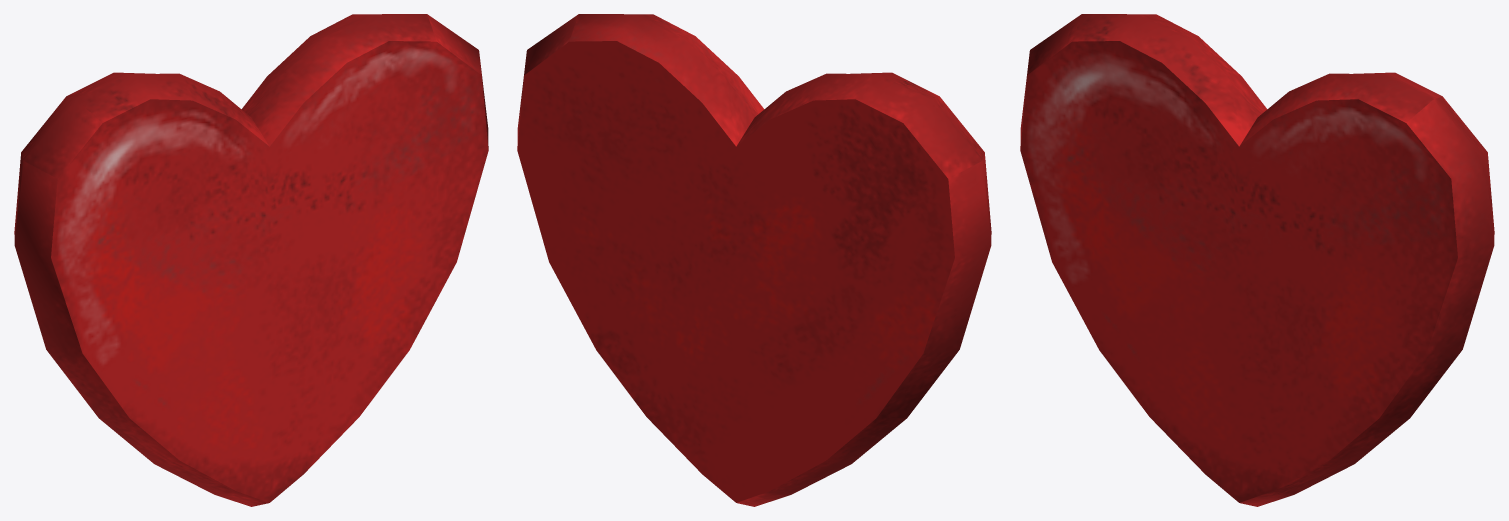
File: heart_float_up.fbx
3 renders of one model, left to right at view 1: azimuth 30°, elevation 25°; view 2: azimuth 150°, elevation 25°; view 3: azimuth 330°, elevation 25°, orthographic.
Visible parts, largest first — view 1: HEART_RIGv1:HEART_mesh:HEART; view 2: HEART_RIGv1:HEART_mesh:HEART; view 3: HEART_RIGv1:HEART_mesh:HEART.
Boxes of the visible parts, left/top/right/bottom form: HEART_RIGv1:HEART_mesh:HEART: left=14, top=14, right=488, bottom=506; HEART_RIGv1:HEART_mesh:HEART: left=517, top=14, right=991, bottom=506; HEART_RIGv1:HEART_mesh:HEART: left=1020, top=14, right=1494, bottom=506.
Bounding box in the file's own units: 1.45 × 1.36 × 0.1939.
